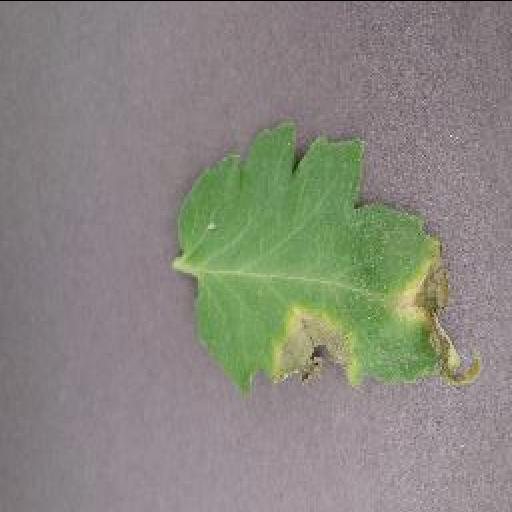disease_tomato: (178, 122, 488, 392)
